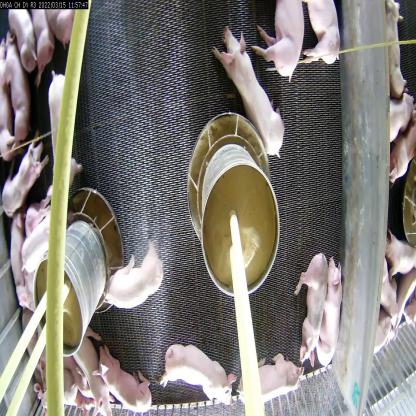Pig: (210, 19, 294, 164), (158, 334, 234, 414), (99, 232, 166, 317), (92, 337, 156, 415), (250, 0, 310, 79), (2, 124, 49, 224), (239, 345, 304, 412), (1, 26, 36, 147), (73, 323, 116, 415), (295, 245, 327, 368), (318, 249, 349, 372), (302, 0, 349, 70)
